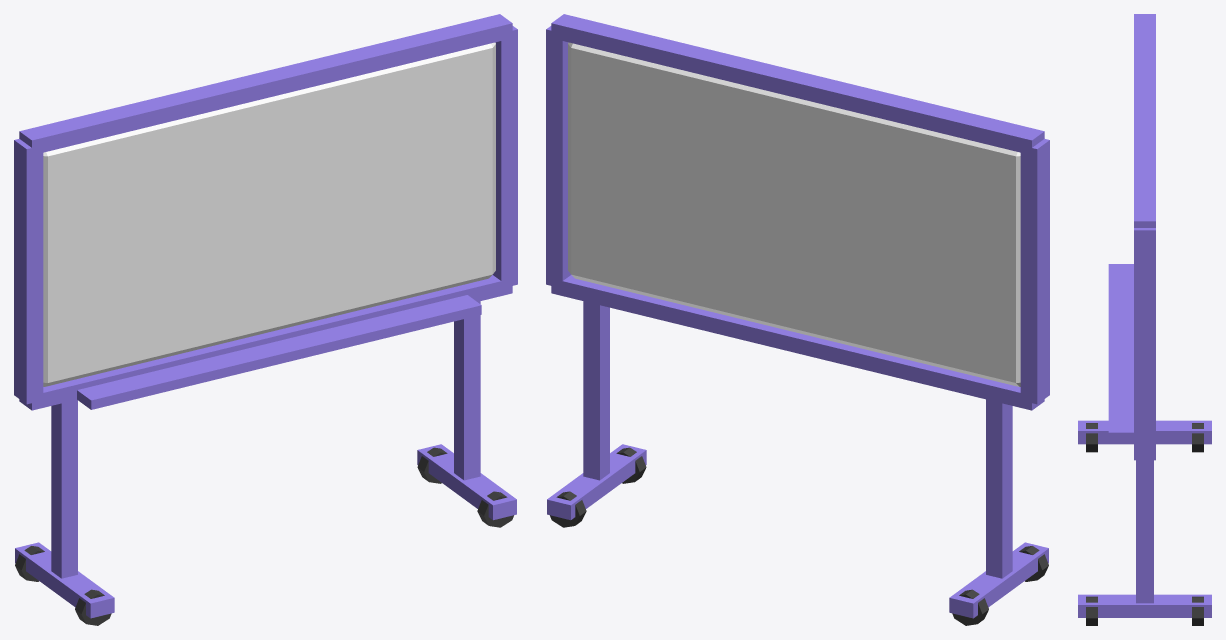
The picture shows the model from 3 angles, left to right: view 1: azimuth 30°, elevation 25°; view 2: azimuth 150°, elevation 25°; view 3: azimuth 270°, elevation 25°; orthographic projection. The views are drawn at different scales.
Parts seen in each view (by area): view 1: Writing surface, Frame rail.001, Marker ledge, Frame upright, Frame rail, Frame upright.001, Stand, Stand.001, Caster beam.001, Caster beam; view 2: Writing surface, Frame rail.001, Frame rail, Frame upright, Frame upright.001, Stand.001, Stand, Caster beam.001, Caster beam; view 3: Frame upright.001, Frame rail.001, Marker ledge, Caster beam.001, Stand.001, Caster beam, Wheel, Wheel.001, Wheel.002, Wheel.003.
Part boxes in pixels (<box>): Writing surface: <box>43,42,495,386</box>; Frame rail.001: <box>19,14,512,155</box>; Marker ledge: <box>77,295,481,409</box>; Frame upright: <box>14,139,43,404</box>; Frame rail: <box>19,275,512,410</box>; Frame upright.001: <box>492,26,517,285</box>; Stand: <box>51,399,77,578</box>; Stand.001: <box>454,301,480,480</box>; Caster beam.001: <box>417,444,516,520</box>; Caster beam: <box>15,542,114,618</box>; Writing surface: <box>568,42,1020,386</box>; Frame rail.001: <box>551,14,1044,155</box>; Frame rail: <box>551,275,1044,410</box>; Frame upright: <box>1020,139,1049,404</box>; Frame upright.001: <box>546,26,571,288</box>; Stand.001: <box>583,301,609,480</box>; Stand: <box>986,399,1012,578</box>; Caster beam.001: <box>547,444,646,520</box>; Caster beam: <box>949,542,1048,618</box>; Frame upright.001: <box>1134,228,1155,455</box>; Frame rail.001: <box>1134,14,1155,227</box>; Marker ledge: <box>1108,264,1133,440</box>; Caster beam.001: <box>1078,594,1211,617</box>; Stand.001: <box>1136,460,1153,603</box>; Caster beam: <box>1078,420,1211,444</box>; Wheel: <box>1086,423,1097,452</box>; Wheel.001: <box>1192,423,1203,452</box>; Wheel.002: <box>1086,596,1097,625</box>; Wheel.003: <box>1192,596,1203,625</box>.
Bounding box in the file's own units: 1.8 × 1.66 × 0.48.
1 material, 1 textured.
